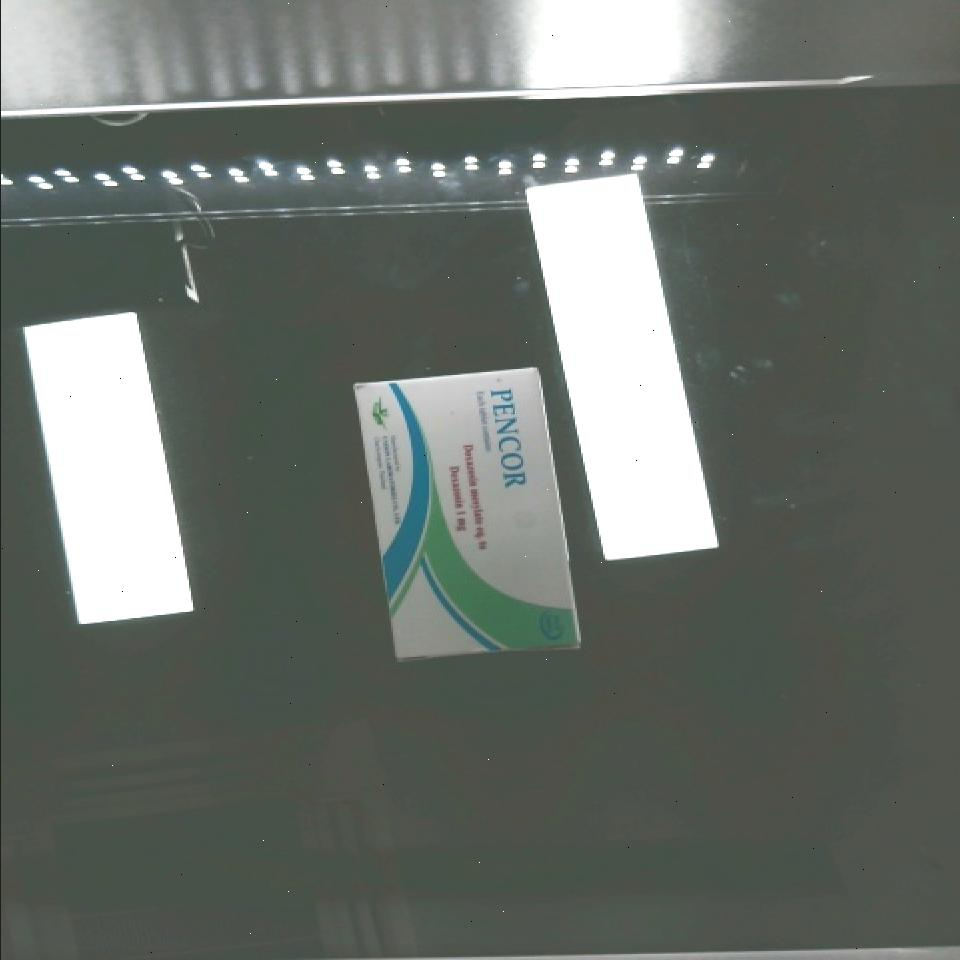medicine_box: (356, 359, 579, 671)
medicine_label_obb: (472, 372, 545, 509)
